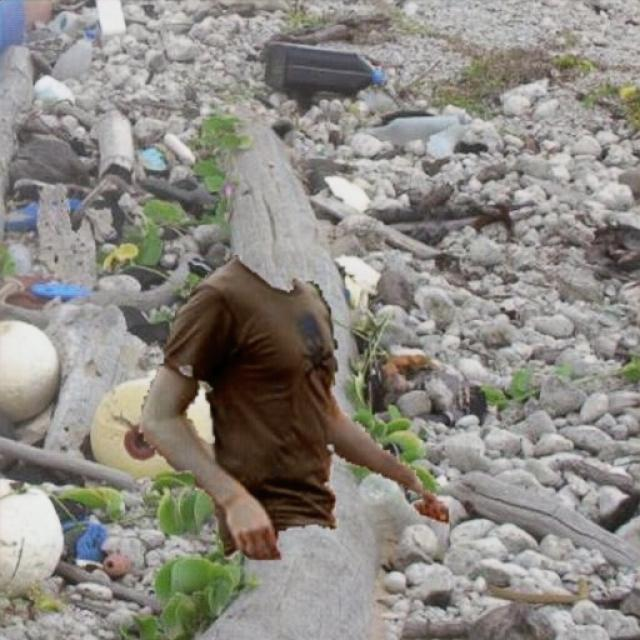Person in Rubble: (138, 255, 448, 559)
